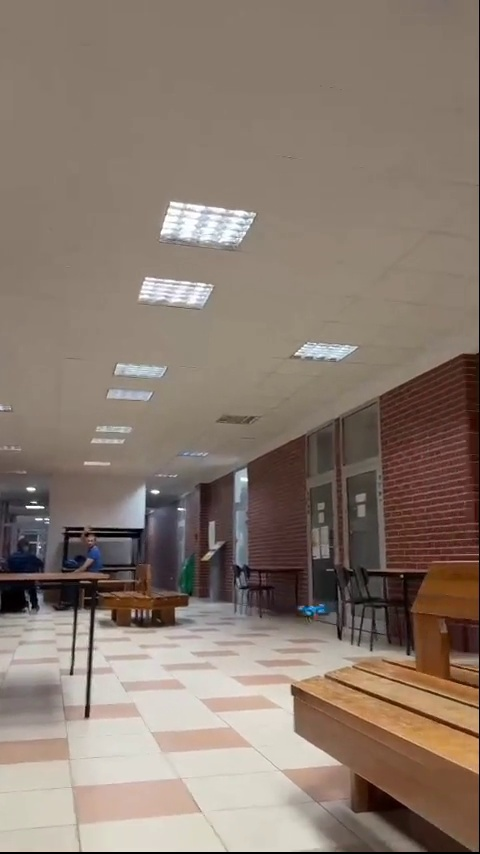drone: (296, 602, 332, 622)
no vest: (9, 534, 42, 608), (68, 526, 103, 588)
